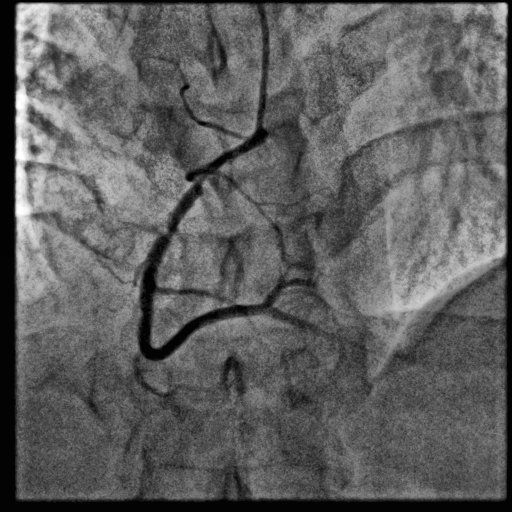pborca: (262, 279, 314, 307)
pda: (262, 307, 371, 351)
rca: (137, 128, 272, 360)
